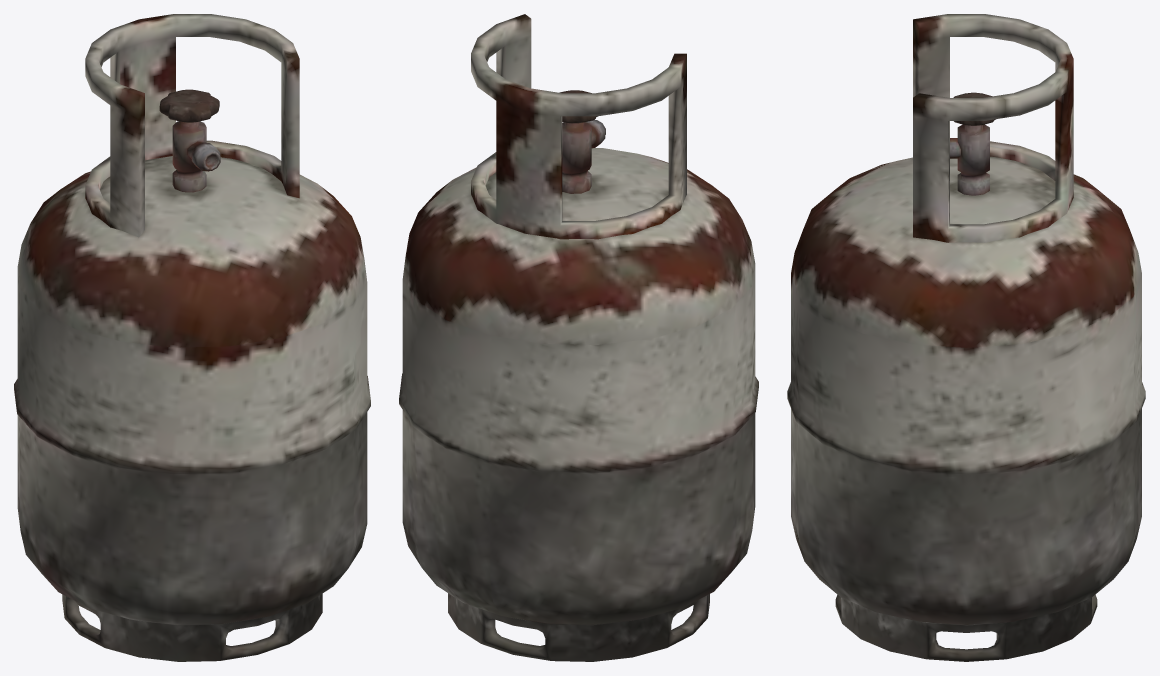
The model's file is propane-tank--2.gltf.
The picture shows the model from 3 angles, left to right: view 1: azimuth 30°, elevation 25°; view 2: azimuth 150°, elevation 25°; view 3: azimuth 270°, elevation 25°; orthographic projection.
Parts seen in each view (by area): view 1: cylinder.small2, rim.small2, valve.small2, tap.small2; view 2: cylinder.small2, rim.small2, valve.small2; view 3: cylinder.small2, rim.small2, valve.small2.
Boxes of the visible parts, x1,y1,x2,y2 form: cylinder.small2: (14,156,370,661); rim.small2: (85,14,299,237); valve.small2: (172,121,220,192); tap.small2: (159,89,219,122); cylinder.small2: (399,148,758,661); rim.small2: (471,14,686,239); valve.small2: (562,120,605,193); cylinder.small2: (787,156,1145,661); rim.small2: (913,14,1073,242); valve.small2: (950,124,989,195).
Size of the model in its own units: 0.3556 by 0.6 by 0.3556.
Materials: 4 (4 with a texture image).
